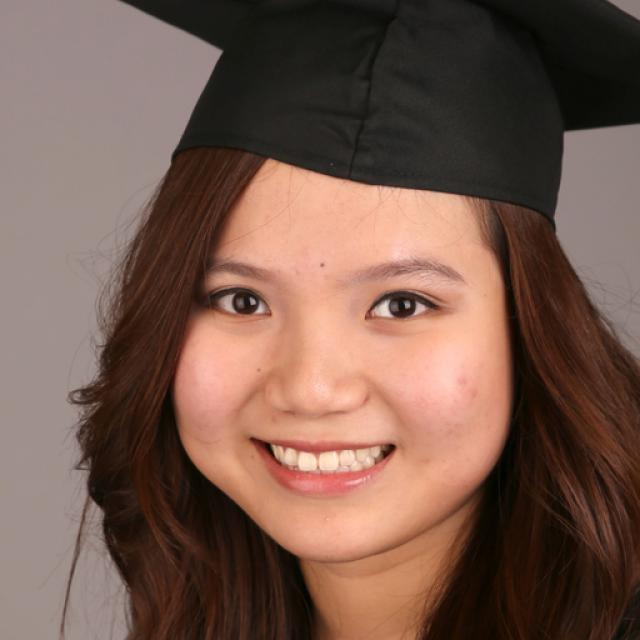happy: (169, 142, 515, 562)
